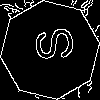S: (25, 25, 75, 65)
